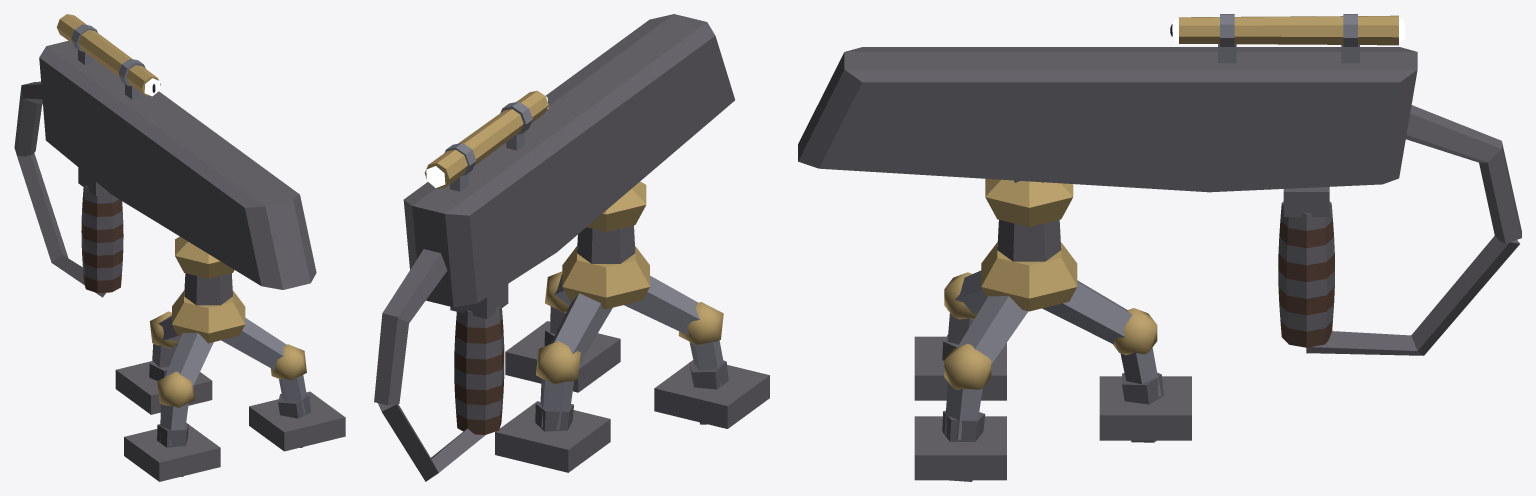
File: gun-standing.glb
3 renders of one model, left to right at view 1: azimuth 30°, elevation 25°; view 2: azimuth 150°, elevation 25°; view 3: azimuth 270°, elevation 25°, orthographic. The views are drawn at different scales.
Visible parts, largest first — view 1: gun-standing; view 2: gun-standing; view 3: gun-standing.
Part boxes in pixels (<box>): gun-standing: <box>14,14,345,481</box>; gun-standing: <box>374,14,769,481</box>; gun-standing: <box>798,14,1521,481</box>.
Bounding box in the file's own units: 0.3037 × 0.5042 × 0.7827.
